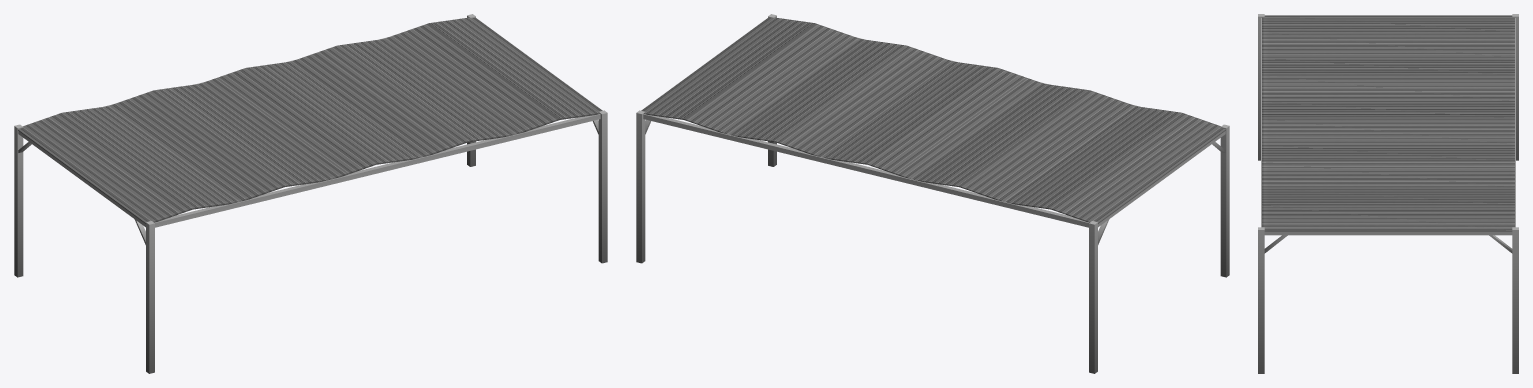
The model's file is parkirmotor.fbx.
The picture shows the model from 3 angles, left to right: view 1: azimuth 30°, elevation 25°; view 2: azimuth 150°, elevation 25°; view 3: azimuth 270°, elevation 25°; orthographic projection. The views are drawn at different scales.
Visible parts, largest first — view 1: Parkiran_LOD0; view 2: Parkiran_LOD0; view 3: Parkiran_LOD0.
Boxes of the visible parts, x1,y1,x2,y2 form: Parkiran_LOD0: [14, 14, 607, 373]; Parkiran_LOD0: [636, 14, 1229, 373]; Parkiran_LOD0: [1258, 14, 1518, 373].
Size of what is drawn, in the model's own units: 1146 by 365 by 585.
